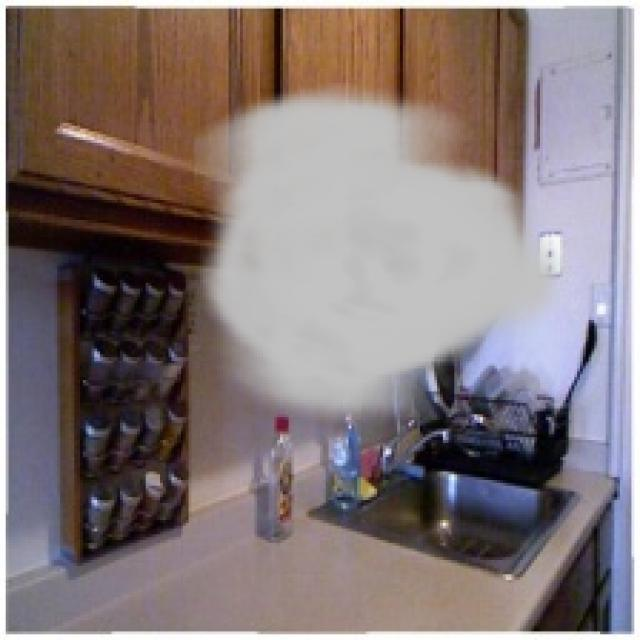smoke: (194, 83, 572, 431)
